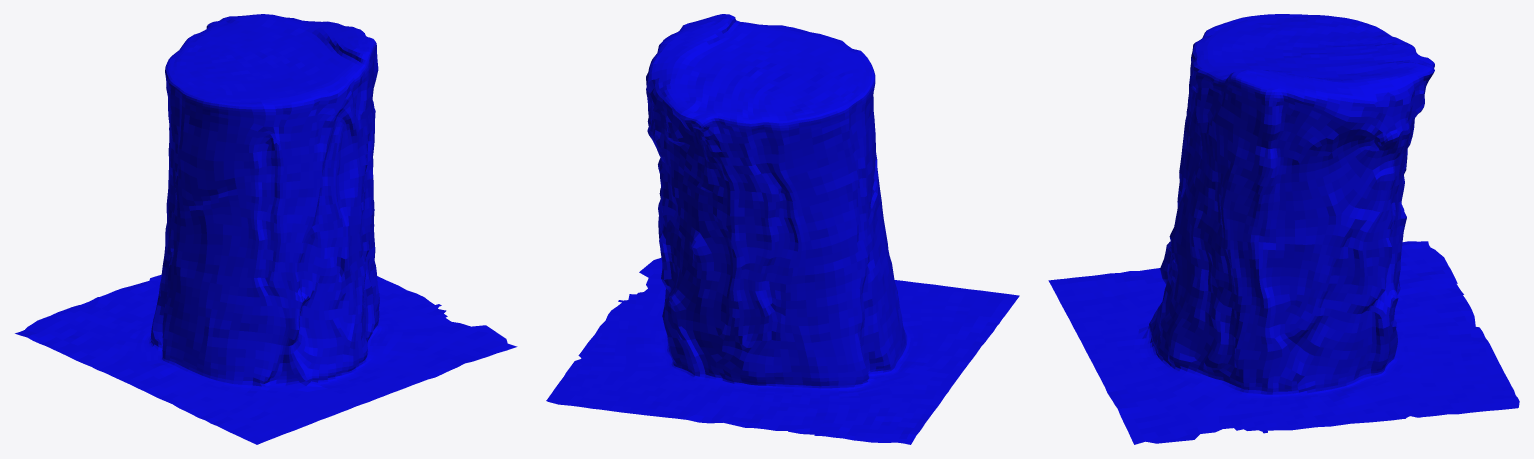
Rendered from TreeStump_H_MIDs.fbx.
The picture shows the model from 3 angles, left to right: view 1: azimuth 30°, elevation 25°; view 2: azimuth 150°, elevation 25°; view 3: azimuth 270°, elevation 25°; orthographic projection. The views are drawn at different scales.
Parts seen in each view (by area): view 1: TreeStump_Model; view 2: TreeStump_Model; view 3: TreeStump_Model.
Part boxes in pixels (box(x1,y1,x2,y2)): TreeStump_Model: box(15, 14, 517, 444); TreeStump_Model: box(546, 14, 1019, 444); TreeStump_Model: box(1048, 14, 1519, 444).
Bounding box in the file's own units: 0.0913 × 0.0679 × 0.092.
